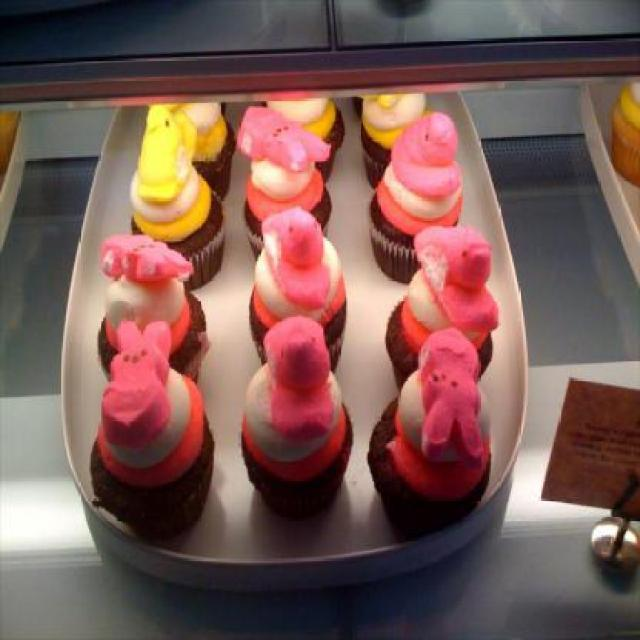Candy: (234, 308, 348, 508)
